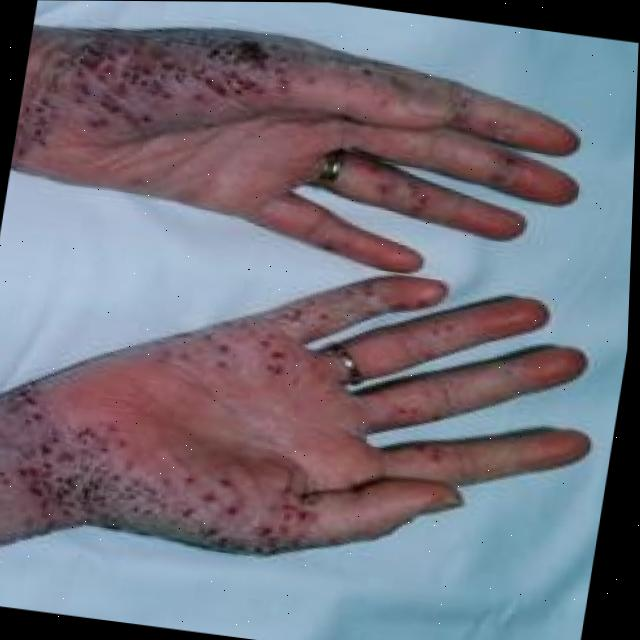Eczema: (0, 233, 459, 576), (8, 14, 537, 235)
